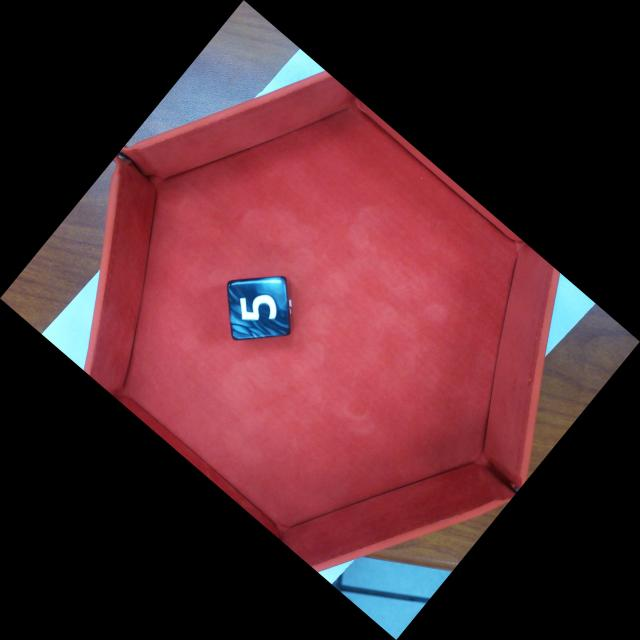dice: (228, 277, 291, 339)
